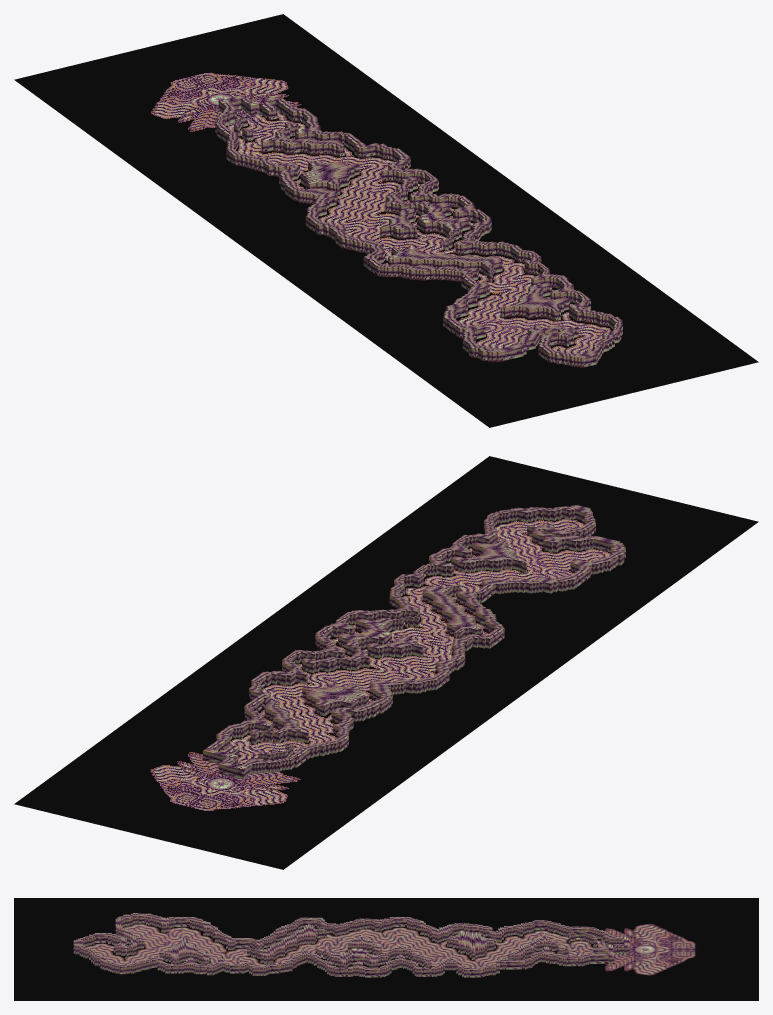
Rendered from Luna5LairSolo.glb.
The picture shows the model from 3 angles, top to bottom: view 1: azimuth 30°, elevation 25°; view 2: azimuth 150°, elevation 25°; view 3: azimuth 270°, elevation 25°; orthographic projection. The views are drawn at different scales.
Parts seen in each view (by area): view 1: Setor_1, Setor_0; view 2: Setor_1, Setor_0; view 3: Setor_1, Setor_0.
Boxes of the visible parts, left/top/right/bottom form: Setor_1: left=14, top=14, right=758, bottom=427; Setor_0: left=215, top=101, right=581, bottom=367; Setor_1: left=14, top=456, right=758, bottom=869; Setor_0: left=241, top=508, right=625, bottom=779; Setor_1: left=14, top=898, right=758, bottom=1000; Setor_0: left=81, top=913, right=623, bottom=949.
Size of the model in its own units: 51.2 by 1.75 by 157.
2 materials, 2 textured.
